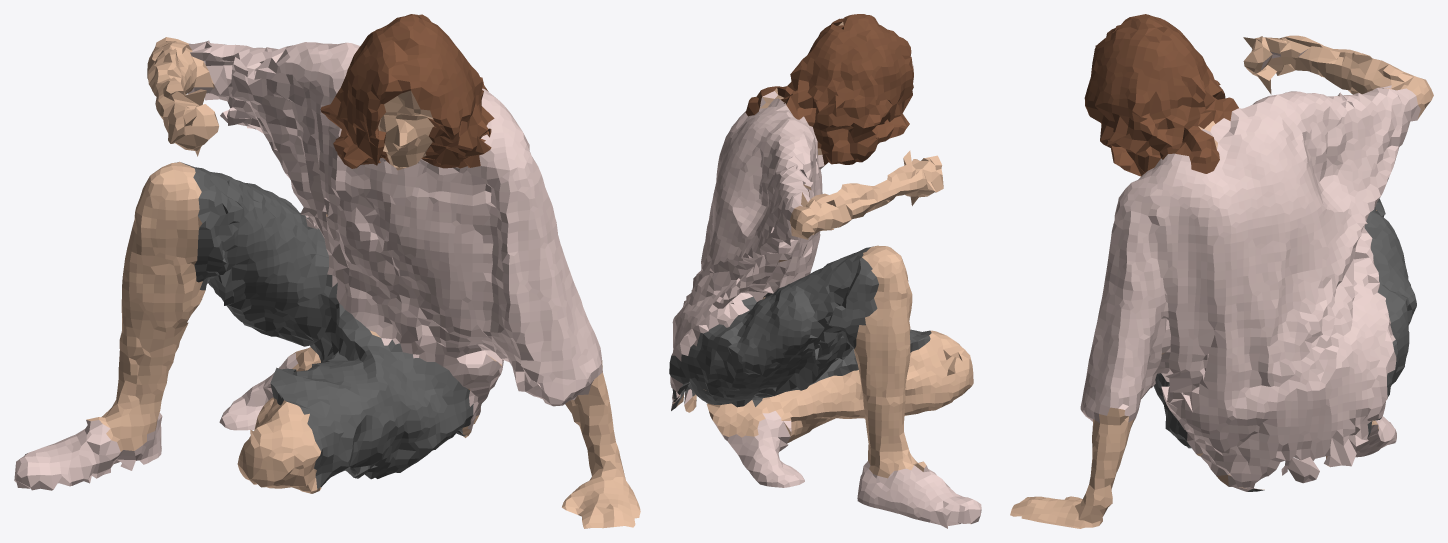
Rendered from loicnrv.glb.
3 renders of one model, left to right at view 1: azimuth 30°, elevation 25°; view 2: azimuth 150°, elevation 25°; view 3: azimuth 270°, elevation 25°, orthographic. The views are drawn at different scales.
Visible parts, largest first — view 1: loicnrv; view 2: loicnrv; view 3: loicnrv.
Boxes of the visible parts, x1=… form: loicnrv: x1=14, y1=14, x2=640, y2=528; loicnrv: x1=669, y1=14, x2=981, y2=528; loicnrv: x1=1010, y1=14, x2=1433, y2=528.
Bounding box in the file's own units: 0.9643 × 0.9928 × 0.8692.
